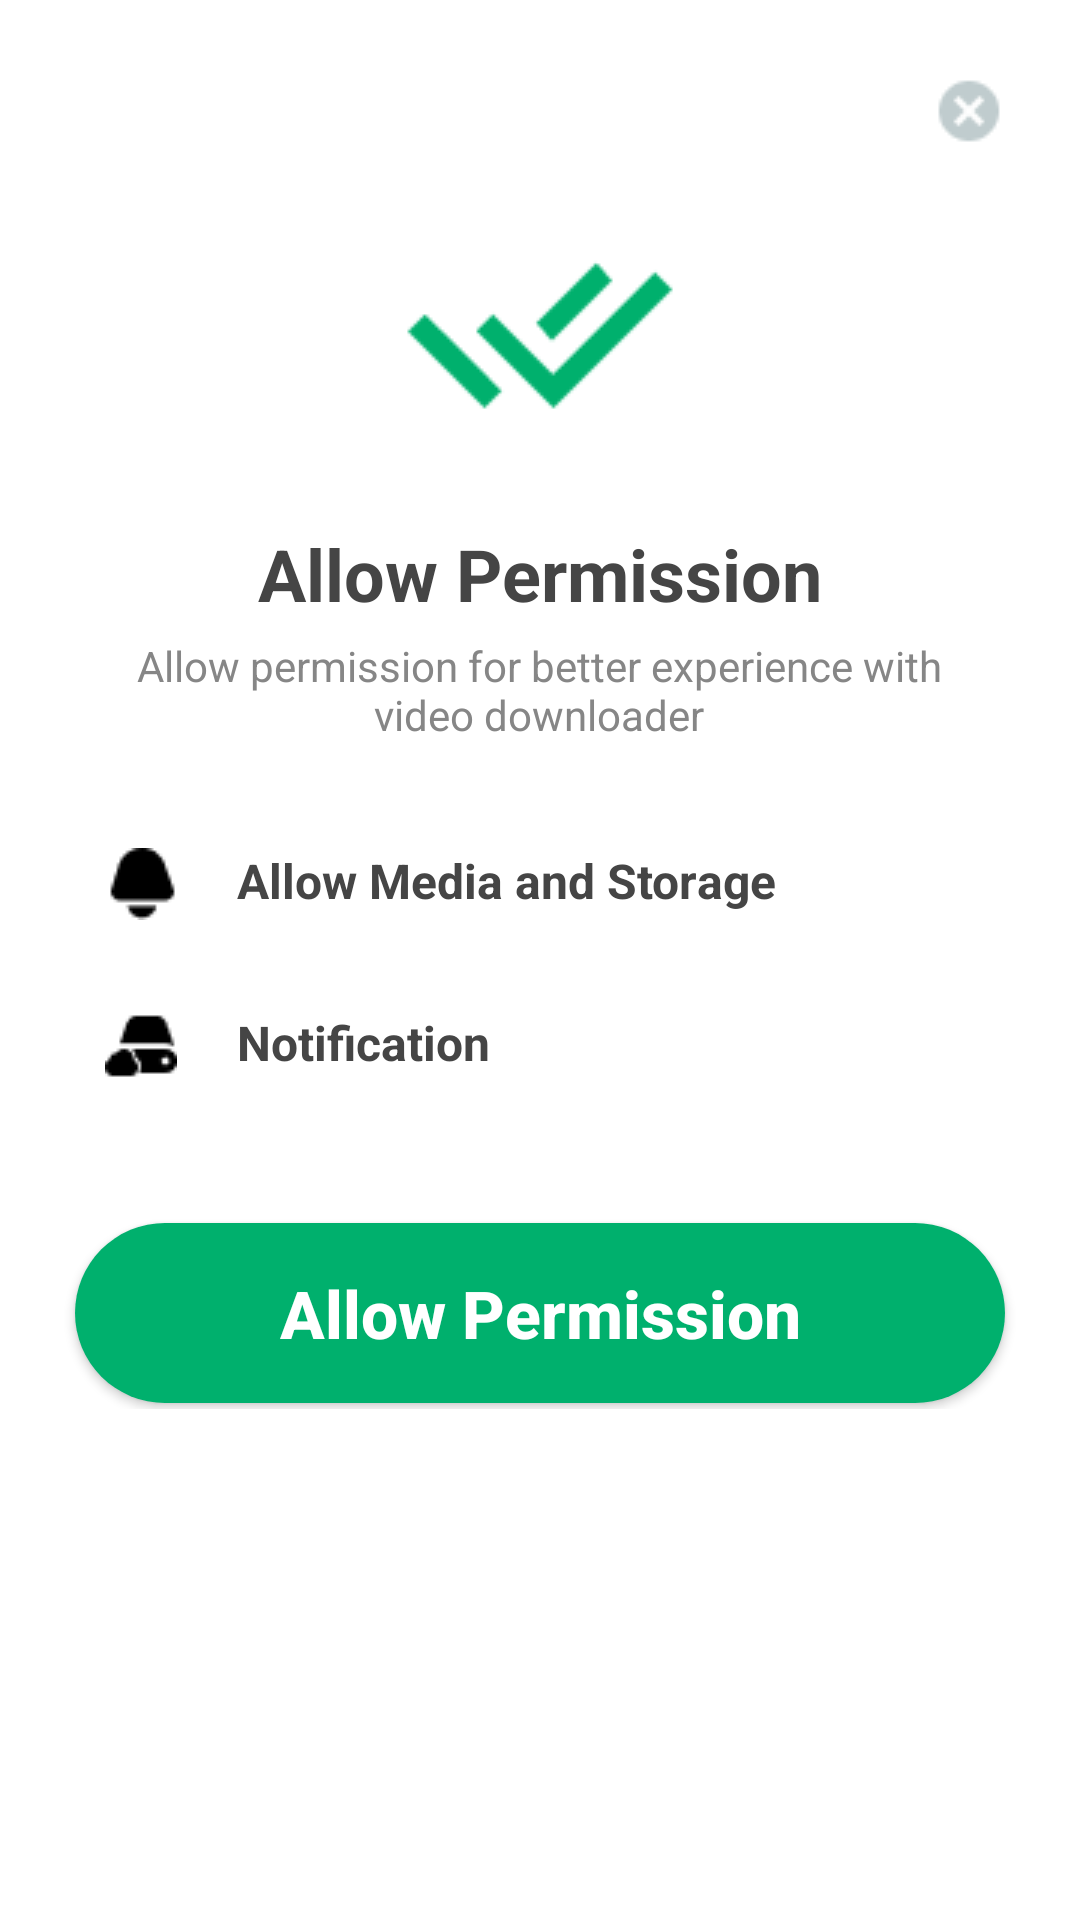

Icons on this 1080x1920 Android screen, each with the point to tap as (x=x, y=y):
allow check: (x=540, y=336)
bell: (x=142, y=884)
cancel: (x=969, y=111)
